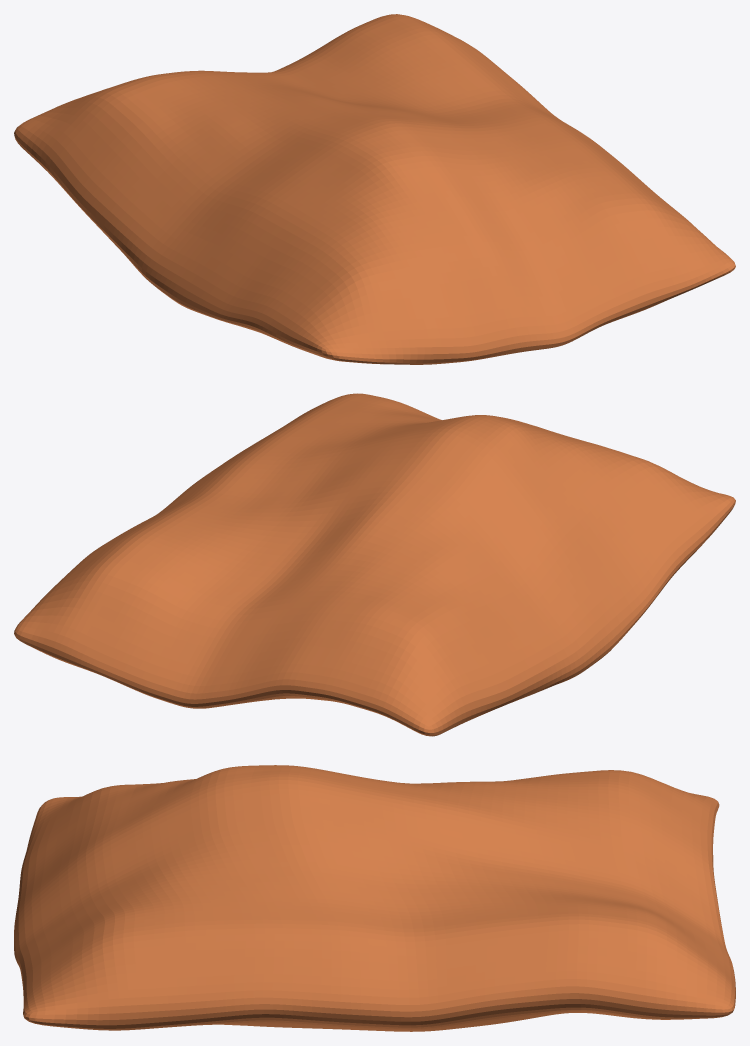
File: fukuro.fbx
3 renders of one model, top to bottom at view 1: azimuth 30°, elevation 25°; view 2: azimuth 150°, elevation 25°; view 3: azimuth 270°, elevation 25°, orthographic. The views are drawn at different scales.
Parts seen in each view (by area): view 1: Grid; view 2: Grid; view 3: Grid.
Part boxes in pixels (left/top/right/bottom): Grid: left=14, top=14, right=735, bottom=364; Grid: left=14, top=393, right=735, bottom=736; Grid: left=14, top=765, right=735, bottom=1031.
Size of the model in its own units: 149 by 59.09 by 204.
